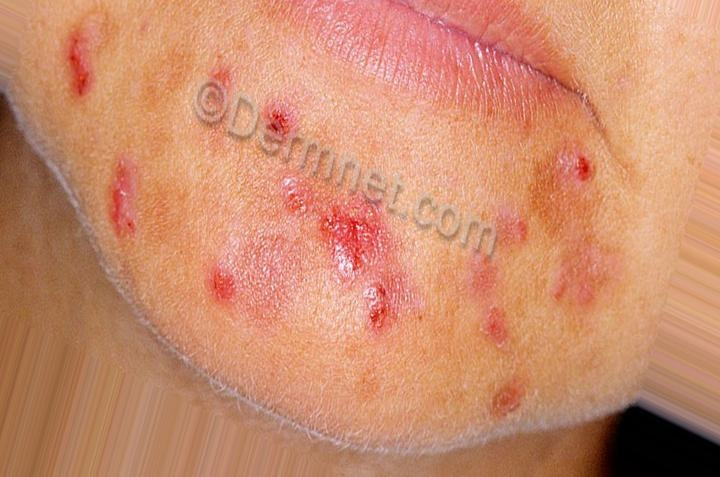Acne: (56, 21, 639, 412)
